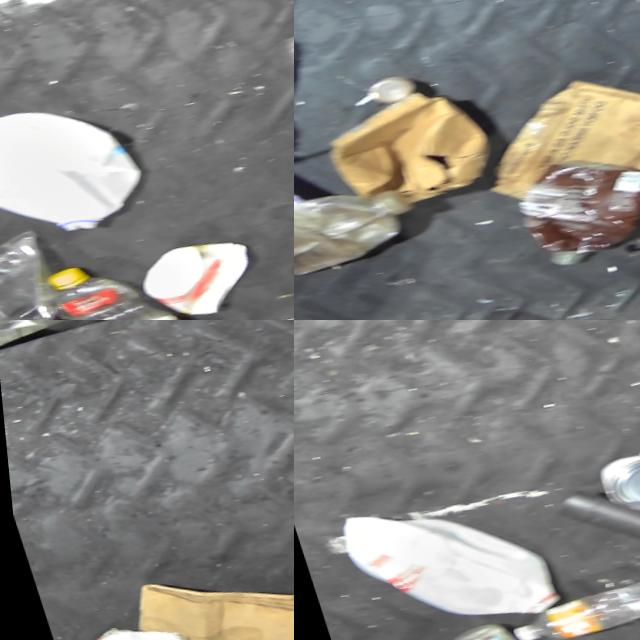can: (583, 433, 640, 521), (353, 64, 415, 106)
milk_jug: (321, 470, 562, 640), (0, 76, 155, 263)
plastic_bottle: (294, 164, 424, 298), (25, 231, 218, 320), (486, 551, 640, 640)
